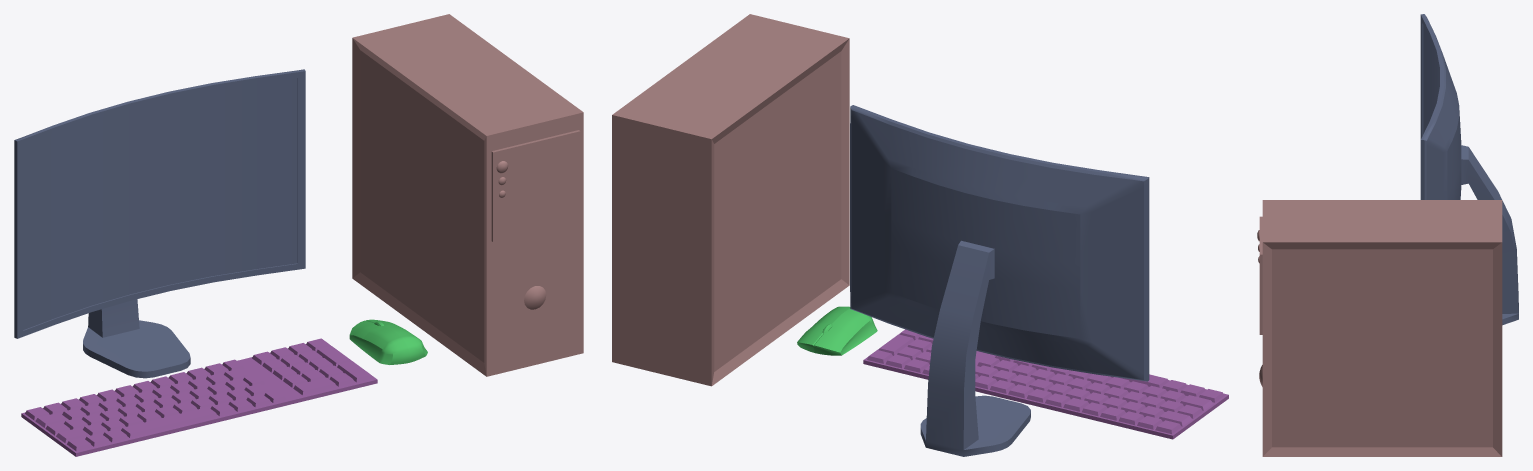
File: MOD_ComputerSetUp.fbx
The picture shows the model from 3 angles, left to right: view 1: azimuth 30°, elevation 25°; view 2: azimuth 150°, elevation 25°; view 3: azimuth 270°, elevation 25°; orthographic projection. The views are drawn at different scales.
Parts seen in each view (by area): view 1: CPU_Ready, Monitor_Ready, KeyBoard_Ready, MouseReady; view 2: CPU_Ready, Monitor_Ready, KeyBoard_Ready, MouseReady; view 3: CPU_Ready, Monitor_Ready.
Boxes of the visible parts, x1,y1,x2,y2 form: CPU_Ready: [352, 14, 583, 376]; Monitor_Ready: [14, 69, 305, 378]; KeyBoard_Ready: [21, 338, 377, 456]; MouseReady: [349, 319, 427, 364]; CPU_Ready: [612, 14, 849, 386]; Monitor_Ready: [850, 105, 1149, 456]; KeyBoard_Ready: [863, 329, 1228, 439]; MouseReady: [797, 306, 877, 355]; CPU_Ready: [1257, 200, 1502, 456]; Monitor_Ready: [1420, 14, 1518, 325].
Size of the model in its own units: 2.8 by 1.45 by 1.46.
